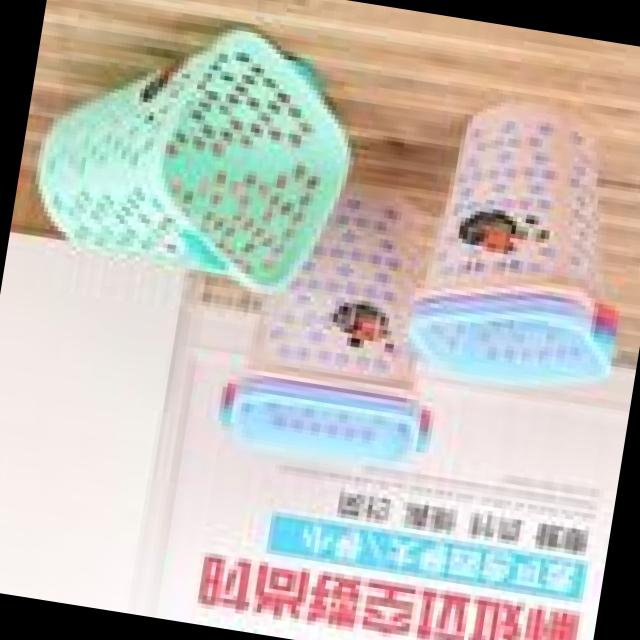dustbin: (11, 0, 378, 310), (209, 165, 471, 485), (395, 87, 640, 410)
